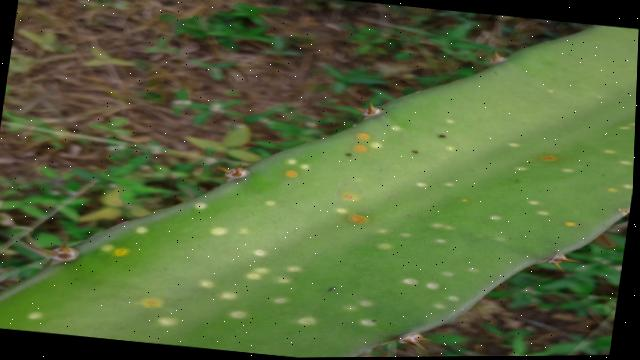stemcanker: (1, 22, 640, 355)
